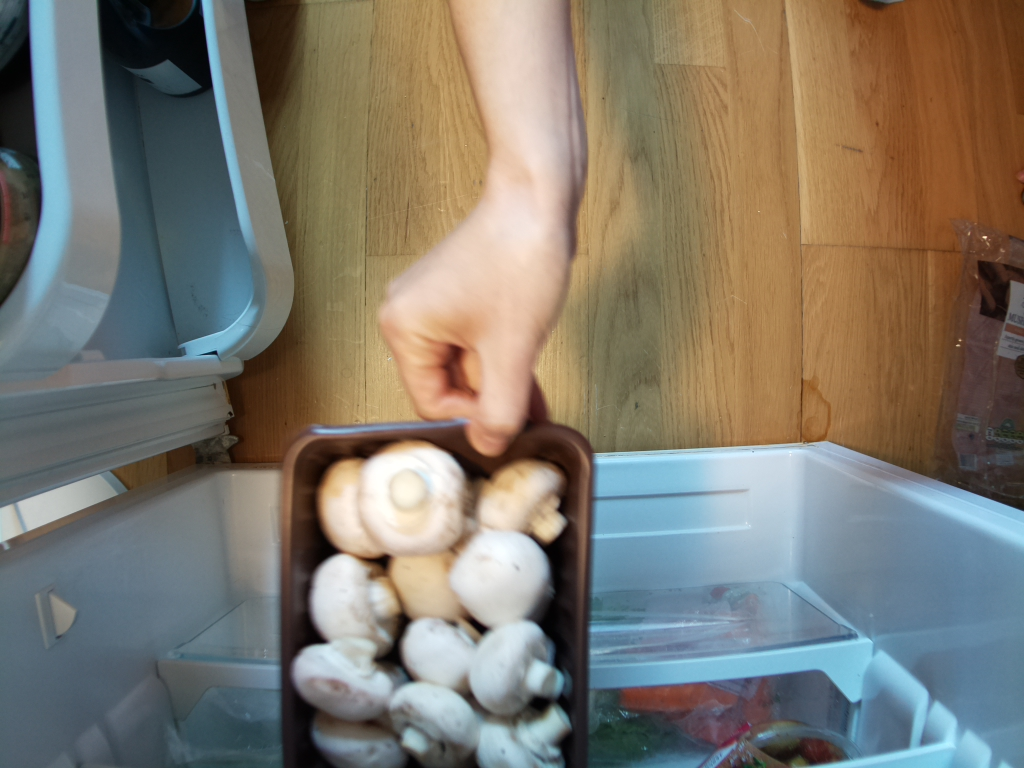mushrooms: (262, 414, 604, 768)
